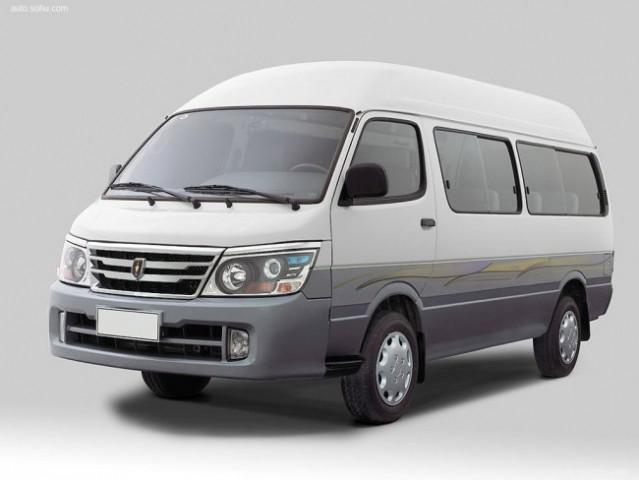van: (47, 59, 620, 422)
